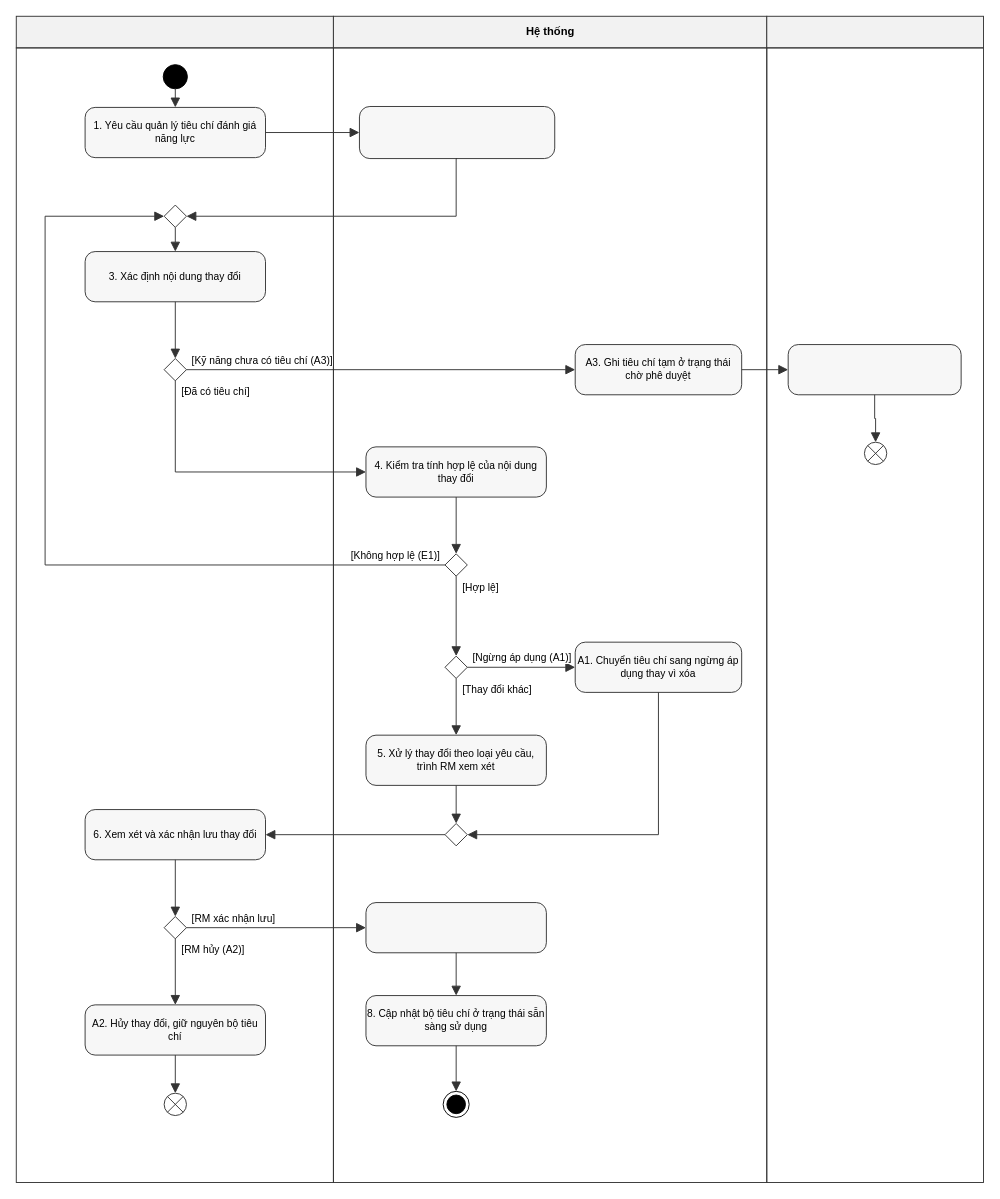
This 1000x1199 diagram has some shape labels left out. The shapes that lost their labels are listed below. From the top down, each one's box as (x1, y1, x2, y2) in pixels, then its label:
(15, 15, 333, 48): RM
(766, 15, 983, 48): PMO/Quản lý danh mục
(359, 106, 555, 159): 2. Cung cấp bộ tiêu chí hiện hành: kỹ năng, tiêu chí, thang 5 mức, điều kiện
(787, 344, 961, 395): A3. Phê duyệt hoặc từ chối tiêu chí tạm
(365, 902, 546, 953): 7. Lưu thay đổi, ghi người thực hiện, thời điểm, nội dung
